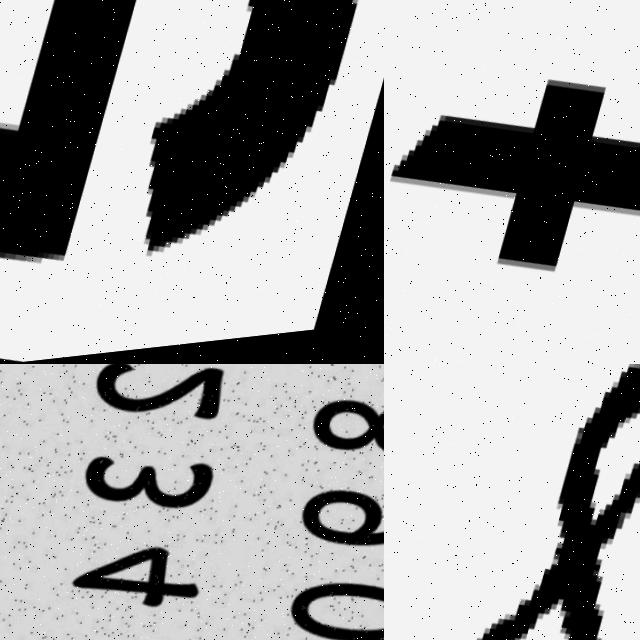0: (253, 542, 384, 640)
2: (384, 364, 640, 640), (56, 364, 255, 481)
3: (55, 416, 237, 570)
4: (39, 500, 224, 640)
8: (280, 364, 384, 516)
9: (266, 451, 384, 610)
E: (149, 0, 363, 264)
T: (384, 6, 640, 364)
